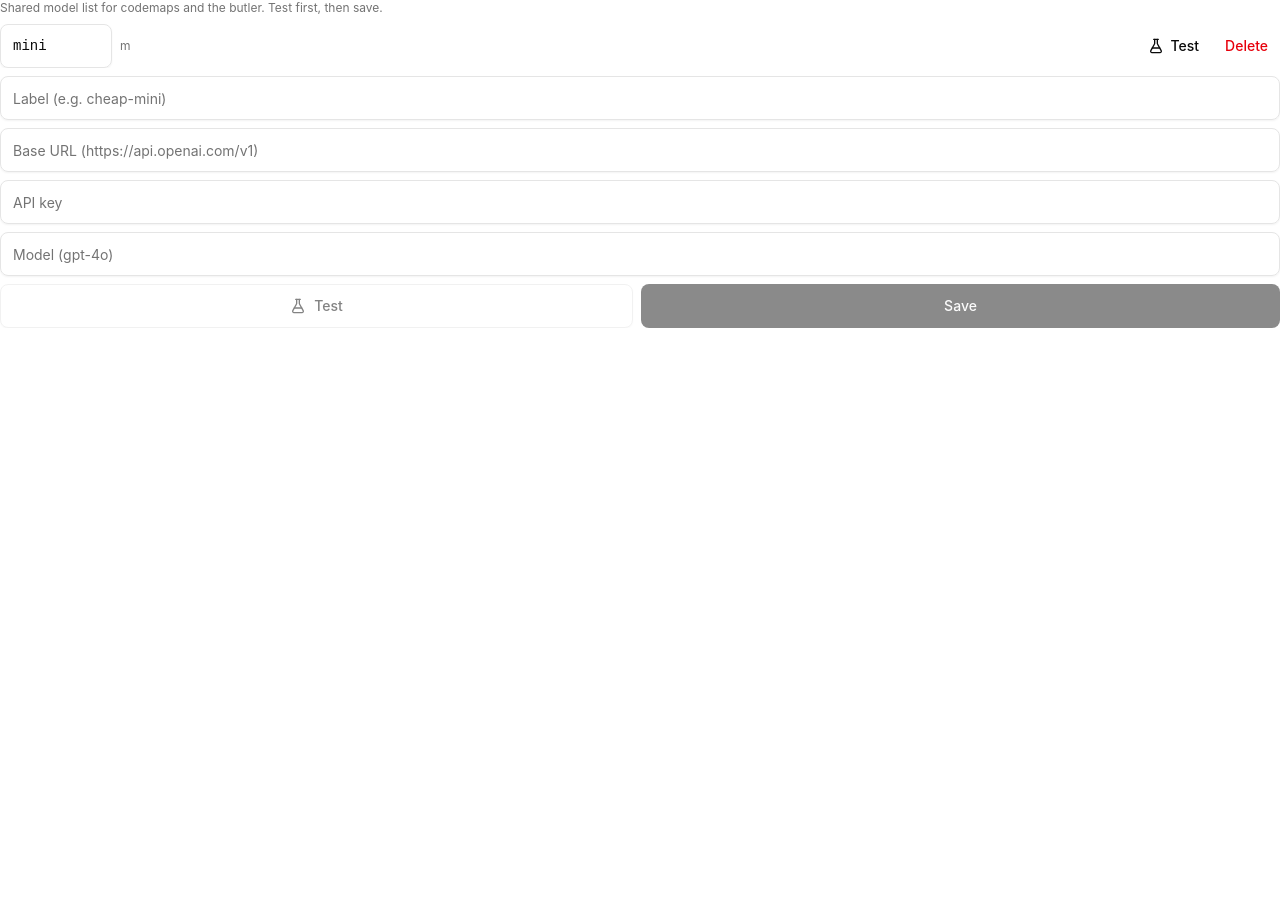
Test: AICard › confirms deletes with the blast radius
Expected: the field showing "mini" is shown, [0, 24, 112, 68]
Click the button "Delete": (1247, 46) [1213, 24, 1279, 68]
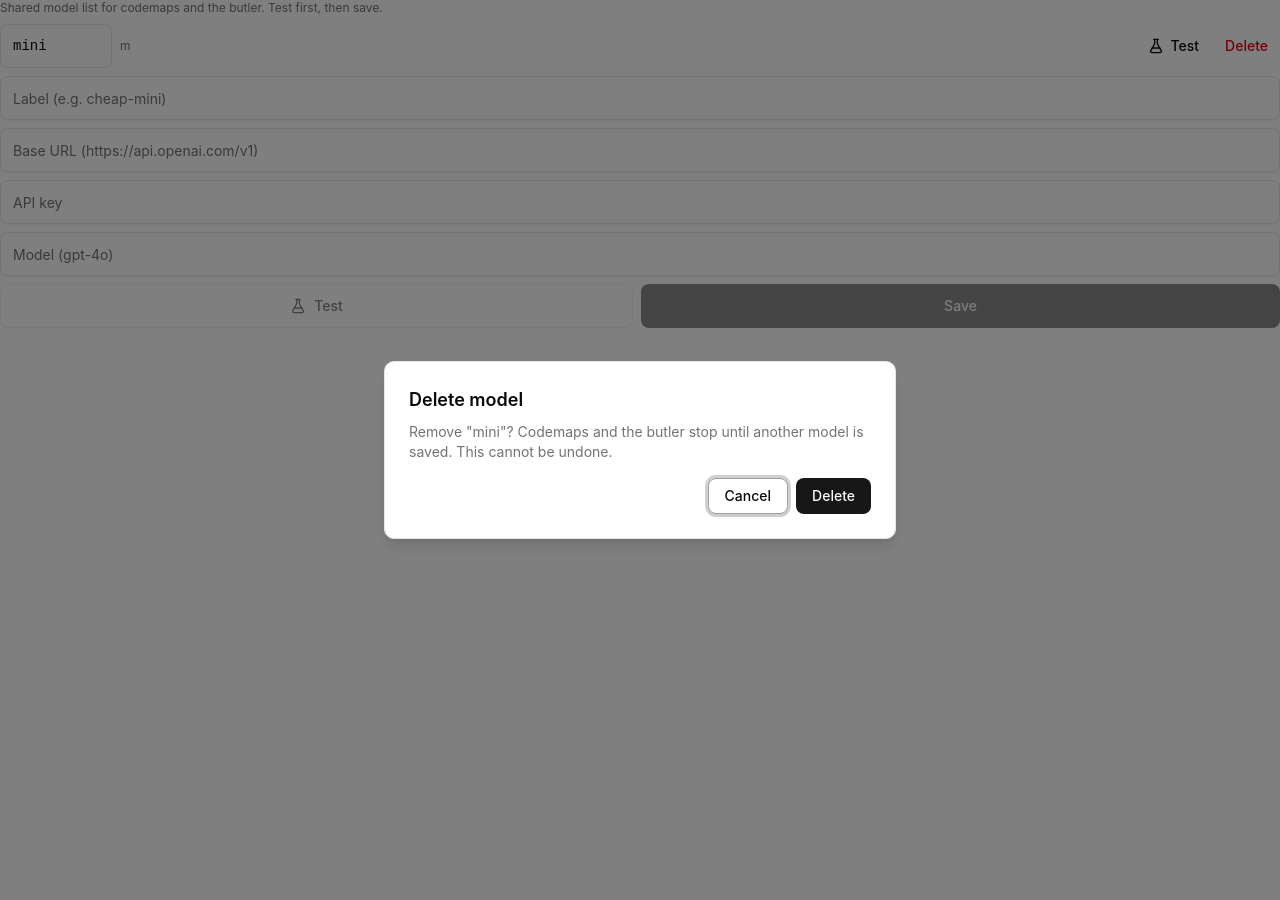
Expected: the field showing "mini" is shown, [0, 24, 112, 68]
Expected: the text "Codemaps and the butler stop" is shown, [409, 423, 864, 460]
Click the button with test id "ai-confirm-delete": (834, 496) [796, 478, 871, 514]
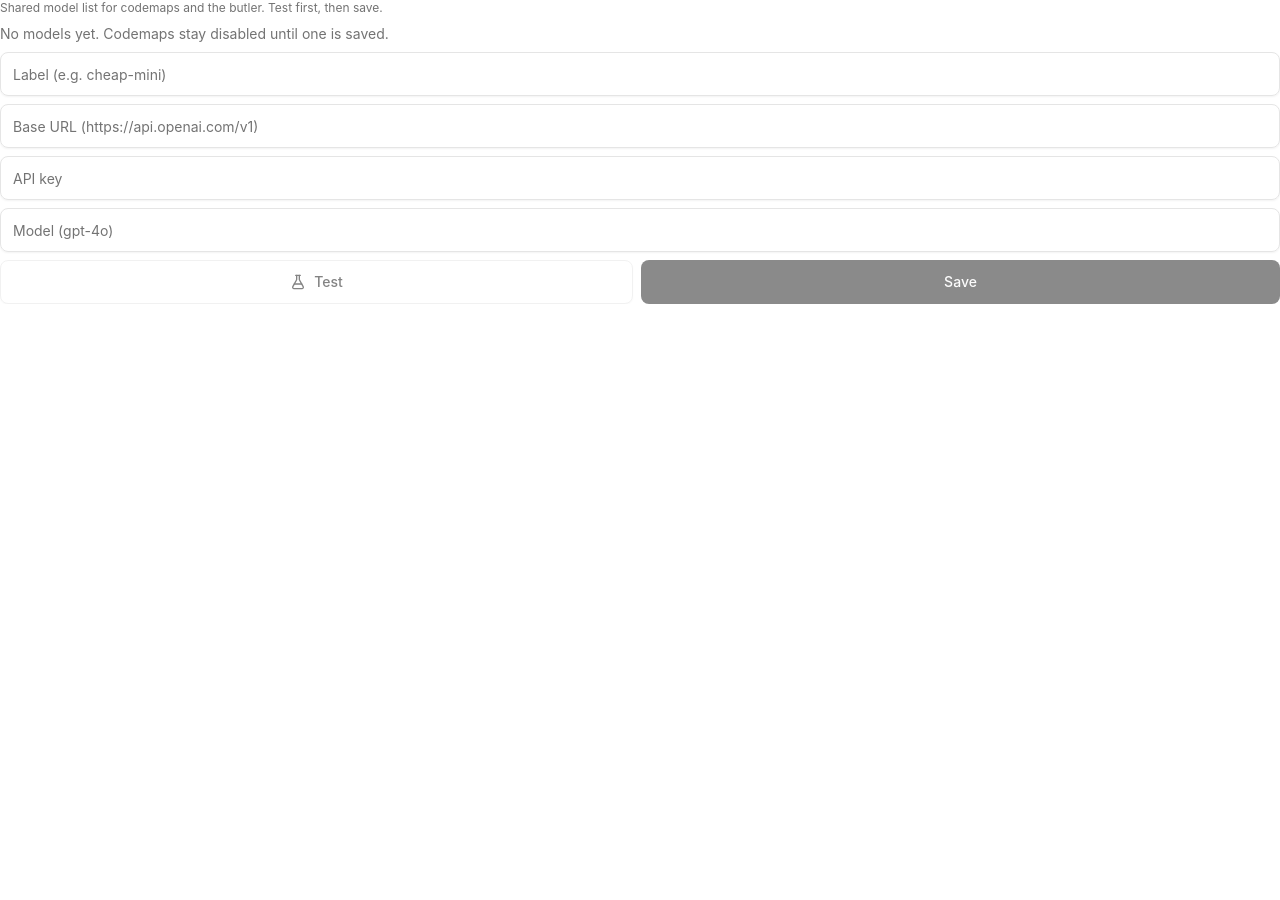
Expected: the text "No models yet. Codemaps stay disabled until one is saved." is shown, [0, 25, 389, 42]
